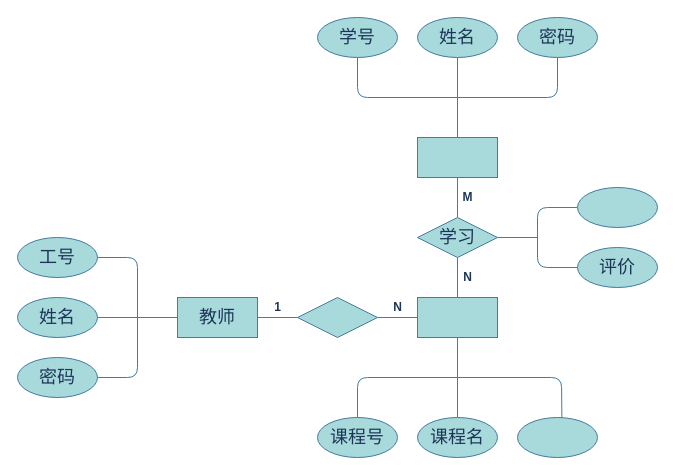
This 675x475 diagram has some shape labels left out. Here are the shapes that lost their labels. From the top down, the centre of each, then its label:
At (x=457, y=157): "学生".
At (x=617, y=207): "成绩".
At (x=337, y=317): "教授".
At (x=457, y=317): "课程".
At (x=557, y=437): "课程简介".
